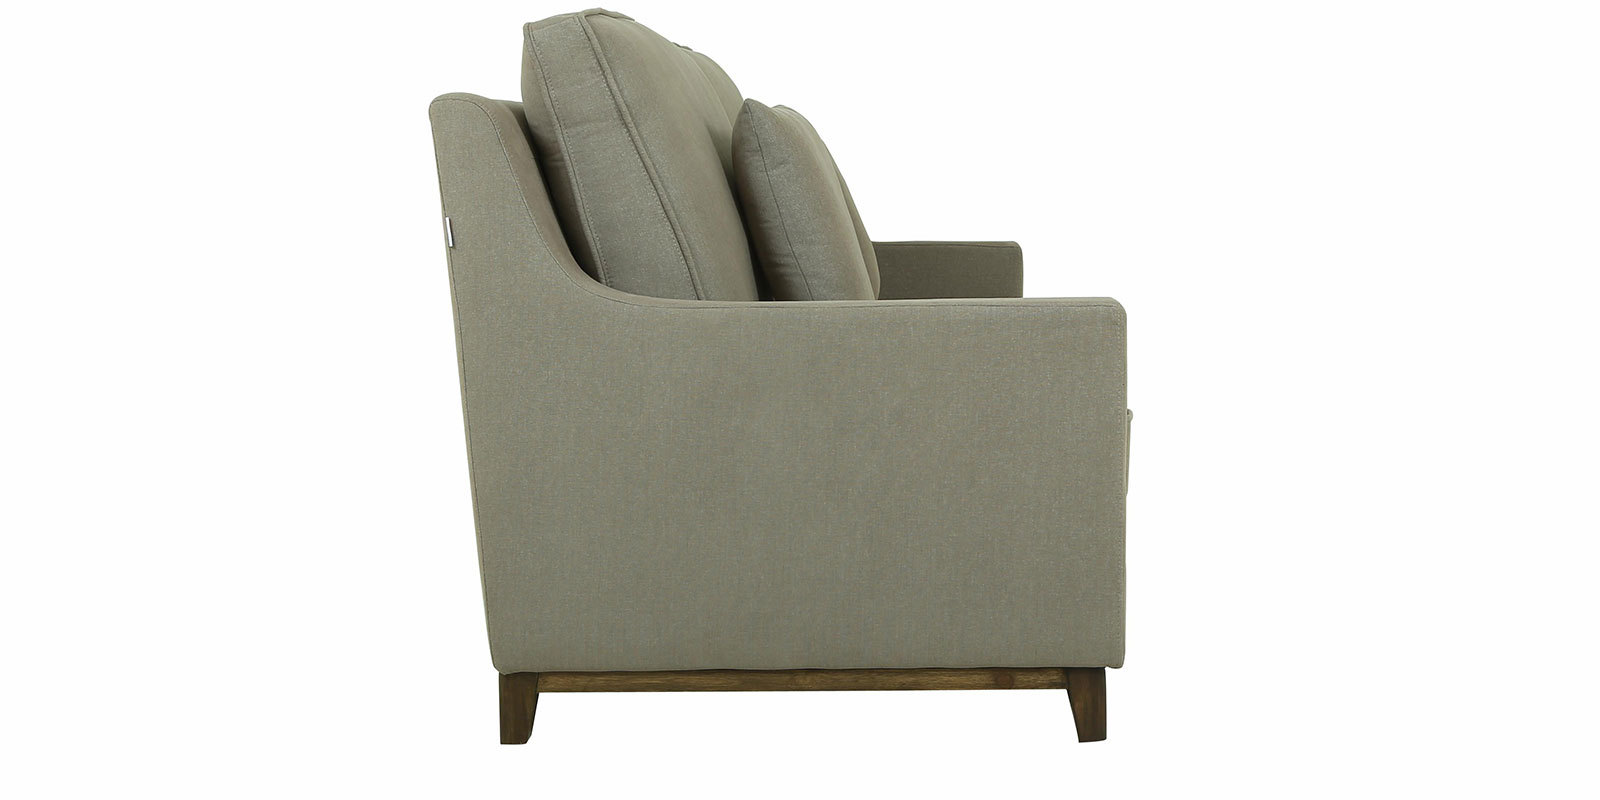Diego Three Seater Sofa in Sandy Colour by CasaCraft: (423, 5, 1149, 774)
